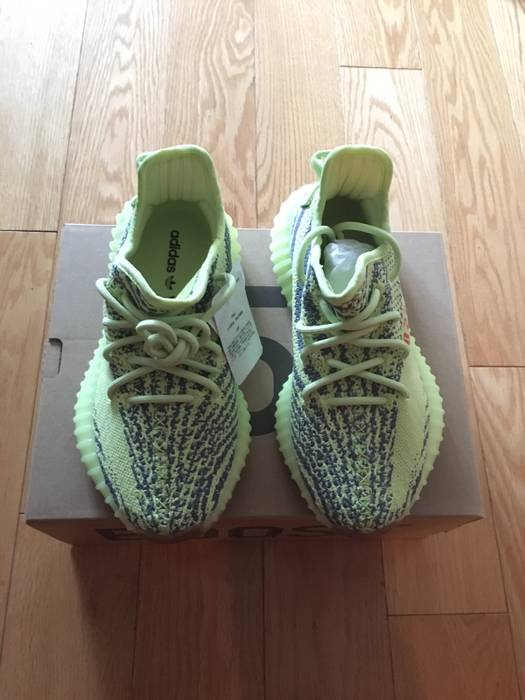Yeezy Semi-Frozen: (61, 140, 271, 566), (253, 128, 450, 560)
